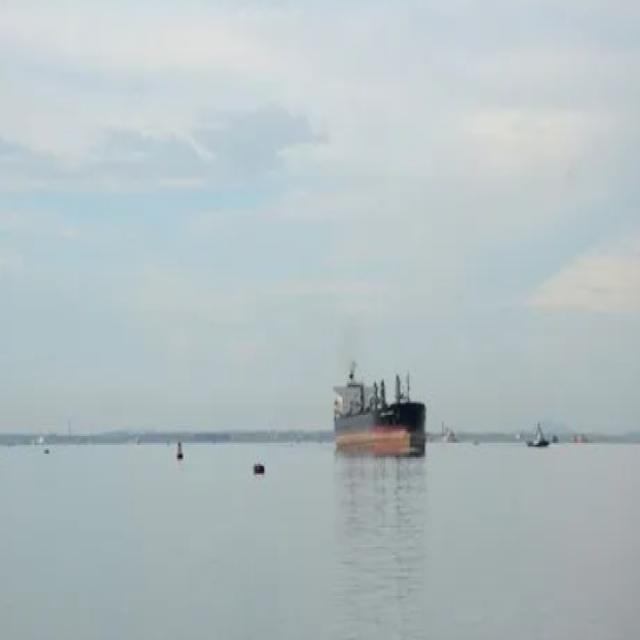cargoship: (332, 360, 429, 462), (525, 417, 550, 447)
